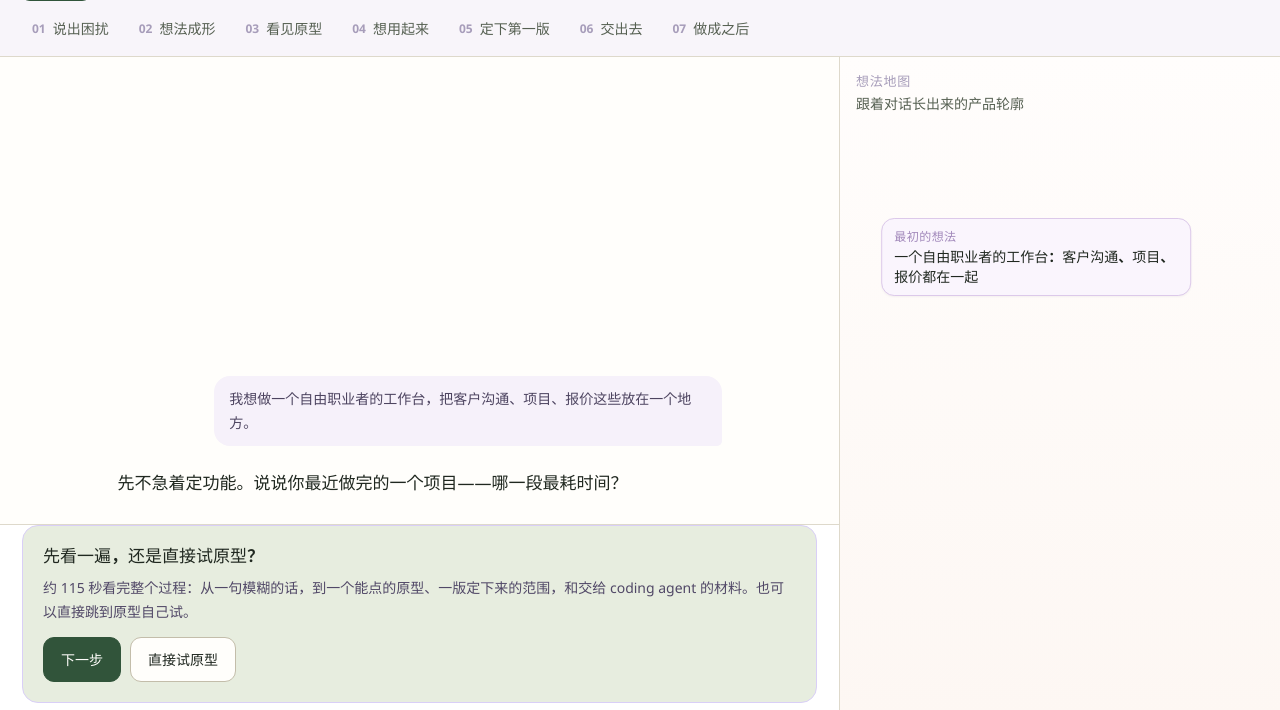
Test: reduced motion › replaces typing and autoplay with whole steps that never advance on their own
The width and height of the screenshot is (1280, 710).
(page scrolled)
Click the button with class "demo-cta" below "先看一遍，还是直接试原型？" at (82,660), box x1=43 y1=637 x2=121 y2=682
Wait 240000 ms
(page scrolled)
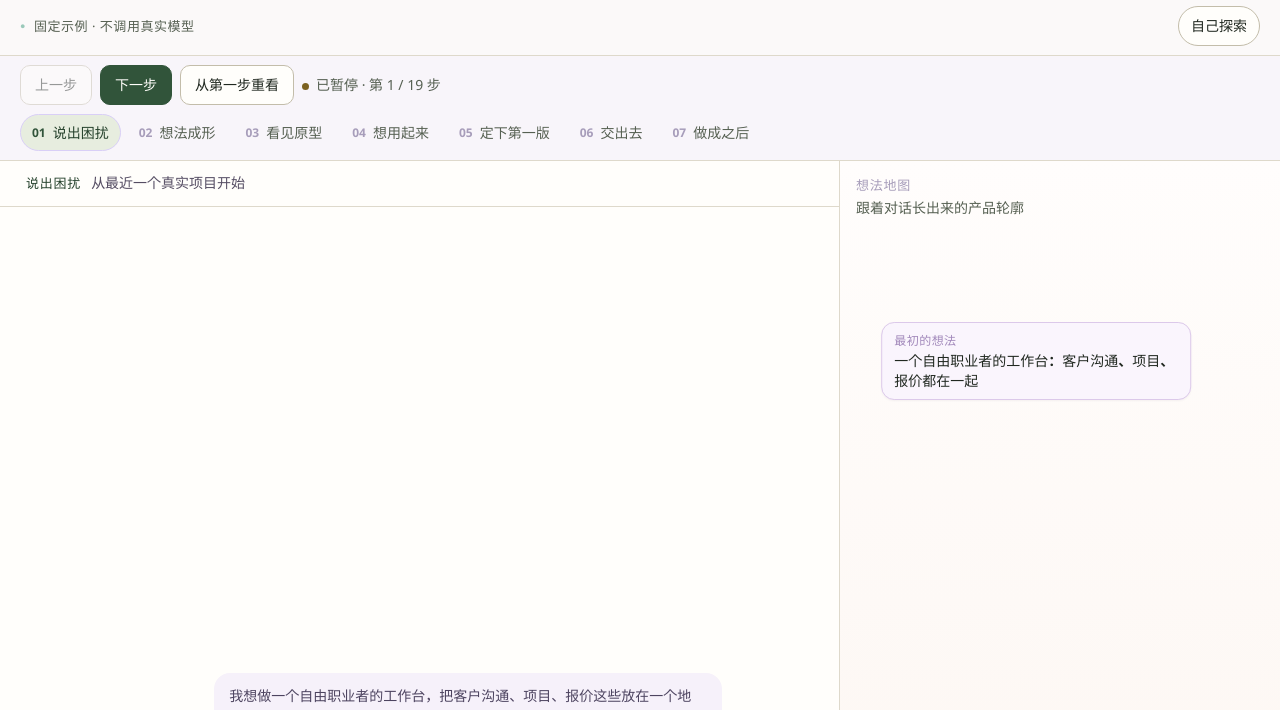
Click the button with class "transport-play" at (136,85), box x1=100 y1=65 x2=172 y2=105
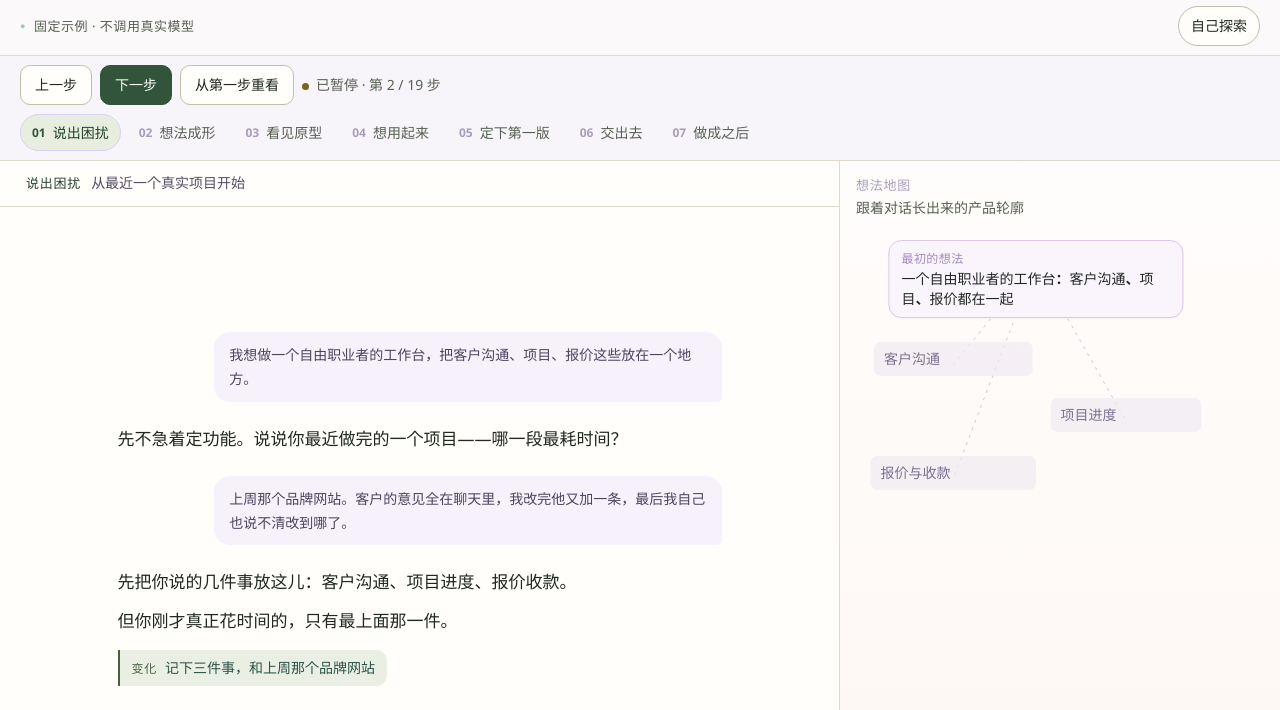
Result: the text "上周那个品牌网站。客户的意见全在聊天里，我改完他又加一条，最后我自己也说不清改到哪了。" is shown at x1=214 y1=476 x2=722 y2=545
